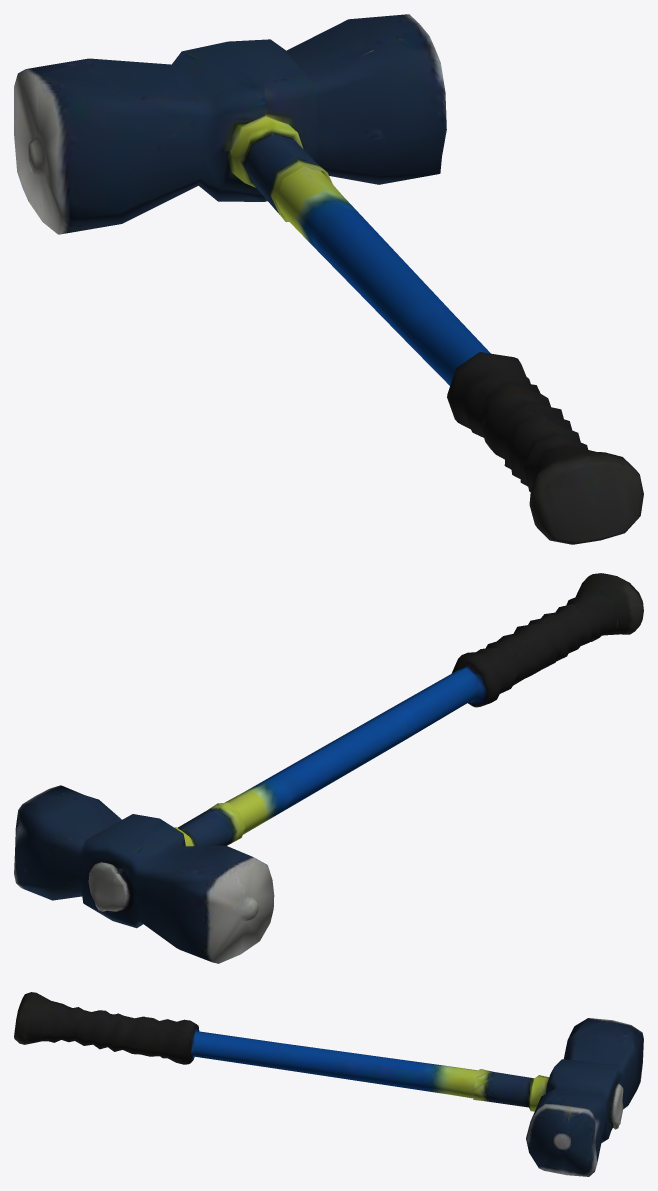
The model's file is m_warhammer.fbx.
The picture shows the model from 3 angles, top to bottom: view 1: azimuth 30°, elevation 25°; view 2: azimuth 150°, elevation 25°; view 3: azimuth 270°, elevation 25°; orthographic projection. The views are drawn at different scales.
Visible parts, largest first — view 1: tripo_node_f537d55d-4052-4e9e-bcff-40b57500fd0f; view 2: tripo_node_f537d55d-4052-4e9e-bcff-40b57500fd0f; view 3: tripo_node_f537d55d-4052-4e9e-bcff-40b57500fd0f.
Boxes of the visible parts, box(x1,y1,x2,y2) form: tripo_node_f537d55d-4052-4e9e-bcff-40b57500fd0f: box(14, 14, 643, 544); tripo_node_f537d55d-4052-4e9e-bcff-40b57500fd0f: box(14, 573, 643, 963); tripo_node_f537d55d-4052-4e9e-bcff-40b57500fd0f: box(14, 992, 643, 1176).
Size of the model in its own units: 0.5941 by 0.2403 by 1.5.
1 material, 1 textured.
